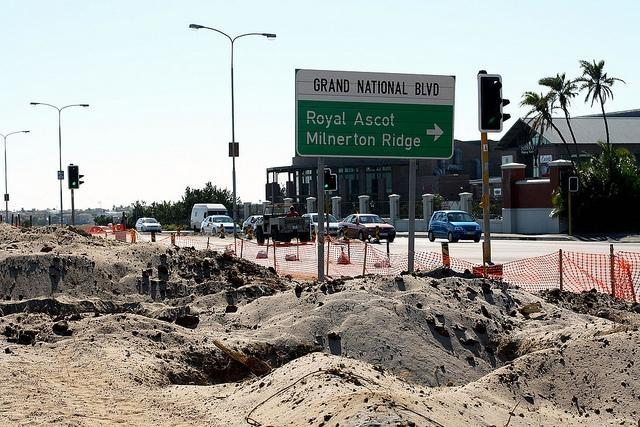car: (428, 211, 482, 244), (336, 214, 396, 243), (200, 216, 242, 235), (301, 214, 339, 235), (134, 217, 162, 232), (243, 214, 262, 234)
truck: (255, 204, 312, 245), (190, 202, 228, 231)
